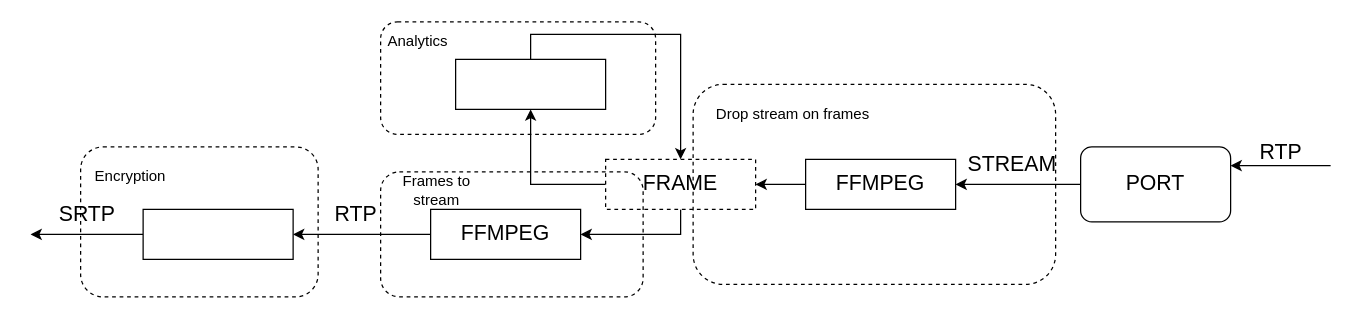
The diagram is 1363 pixels wide and 319 high, and some of its shapes have lost their labels. Each missing label, with the centre of its shape:
DTLS security: point 217,233
OPENCV: point 530,83
